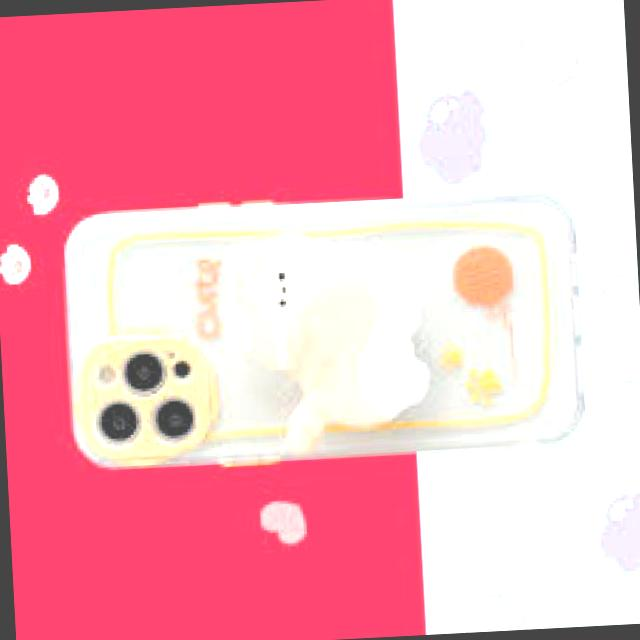lens_back: (95, 396, 146, 448), (118, 347, 168, 397), (150, 396, 198, 446)
phone: (52, 180, 596, 474)
